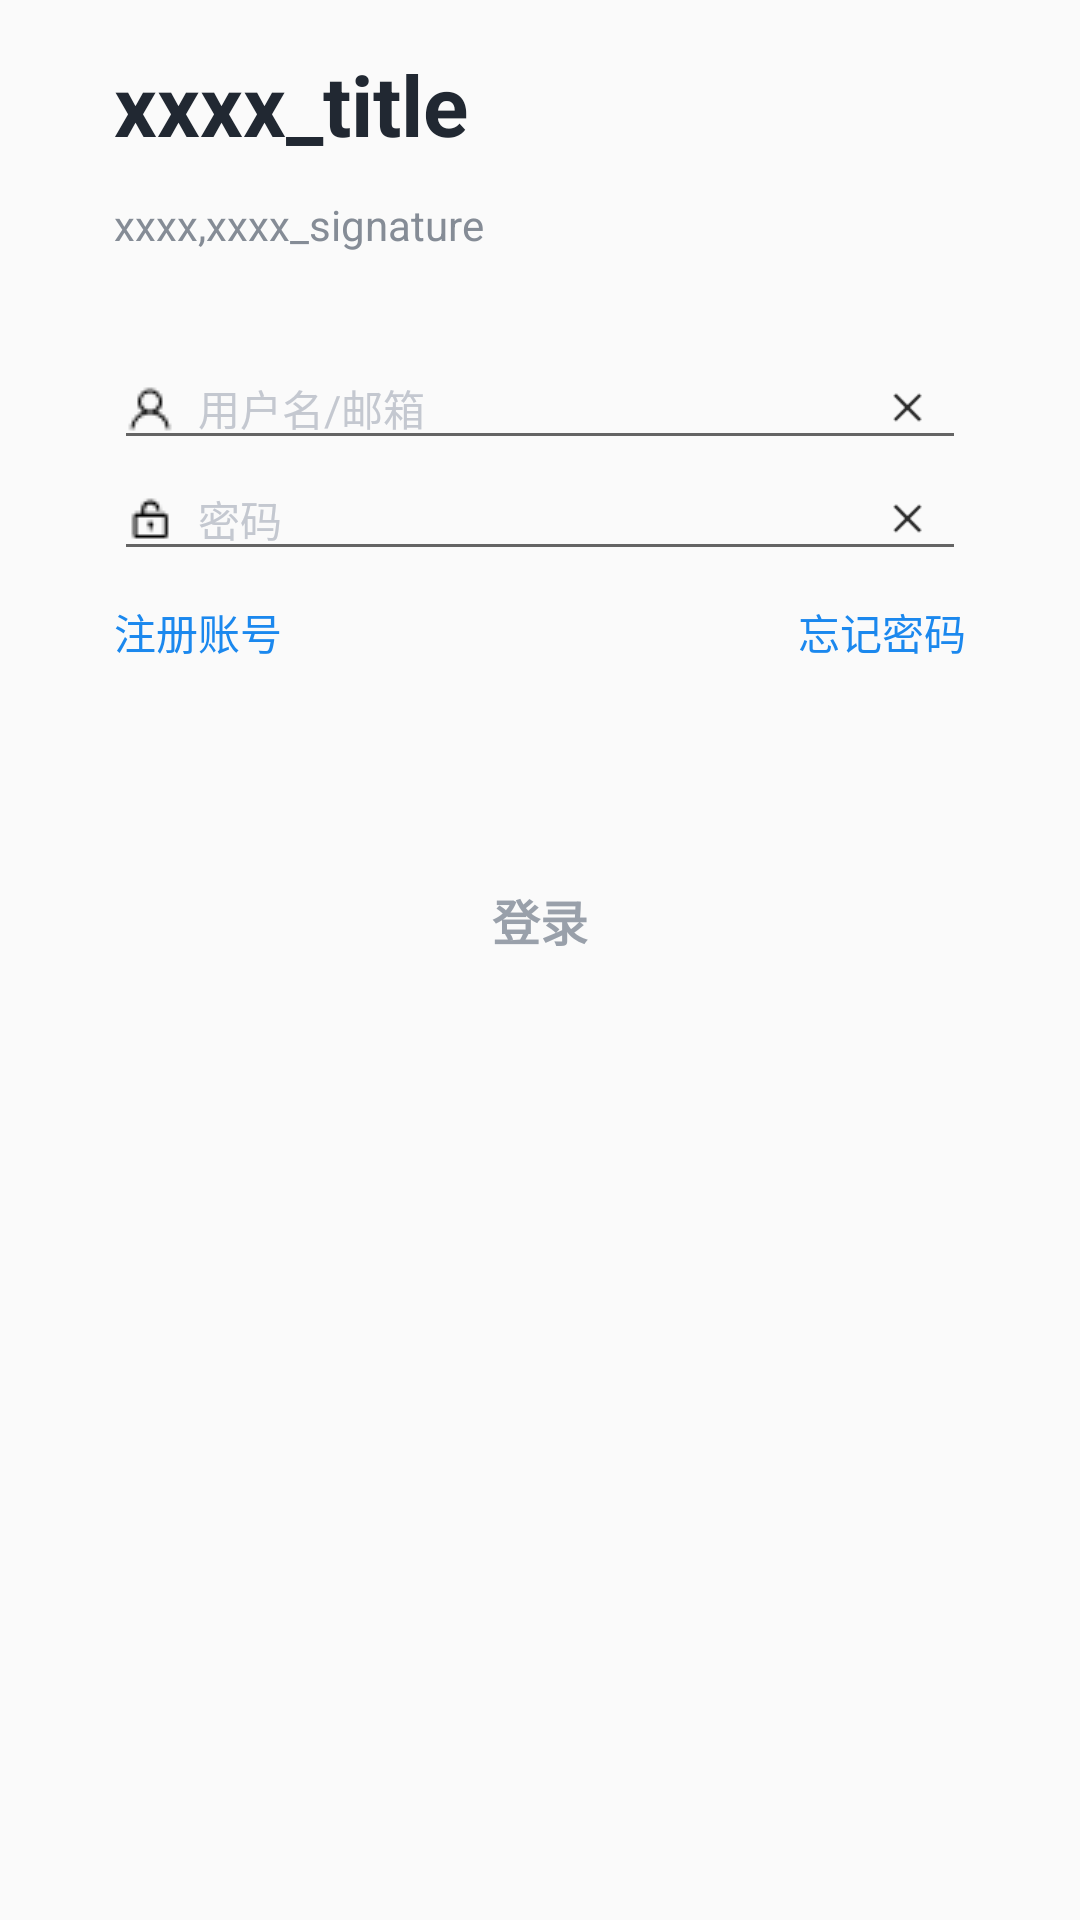

Named icons in this screenshot (1080 × 1920) and their centers, (x,y):
cancel: (907,407), (907,518)
